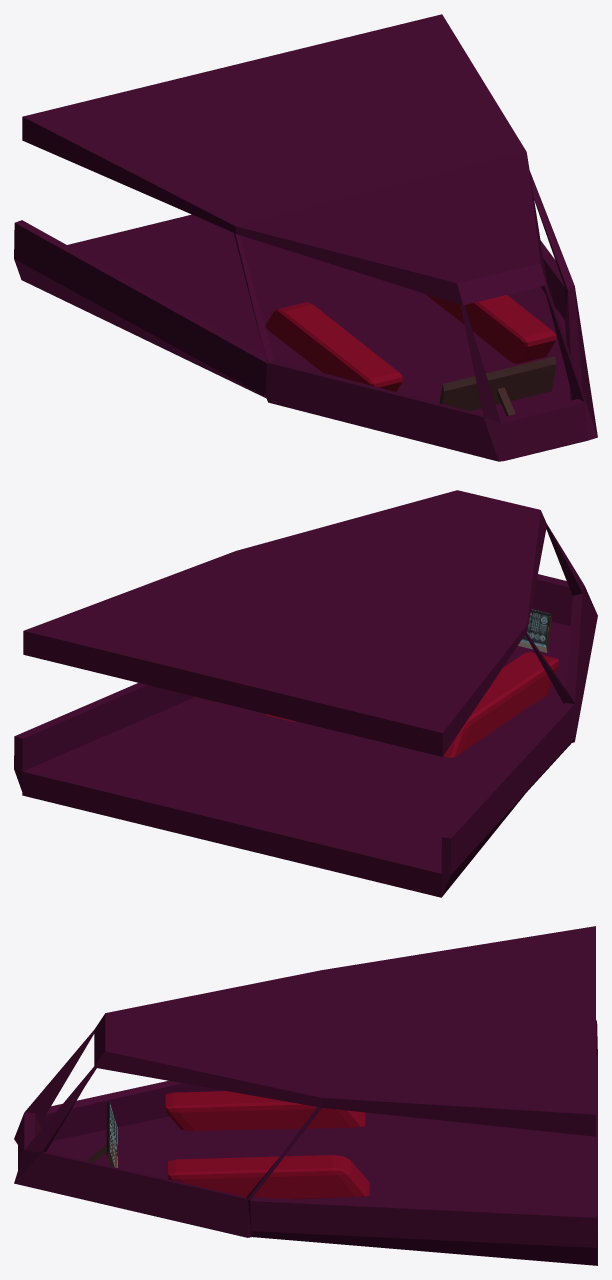
The model's file is cockpit.fbx.
3 views of the same model, one above another, from view 1: azimuth 30°, elevation 25°; view 2: azimuth 150°, elevation 25°; view 3: azimuth 270°, elevation 25° (orthographic). The views are drawn at different scales.
Parts seen in each view (by area): view 1: cockpit, div, display; view 2: cockpit, div, display; view 3: cockpit, div, display.
Boxes of the visible parts, x1,y1,x2,y2 form: cockpit: [14, 14, 597, 461]; div: [265, 294, 556, 391]; display: [439, 356, 556, 415]; cockpit: [14, 490, 597, 897]; div: [264, 651, 558, 757]; display: [518, 609, 551, 652]; cockpit: [14, 926, 597, 1265]; div: [165, 1091, 369, 1199]; display: [86, 1099, 117, 1167].
Bounding box in the file's own units: 286 × 104 × 360.
